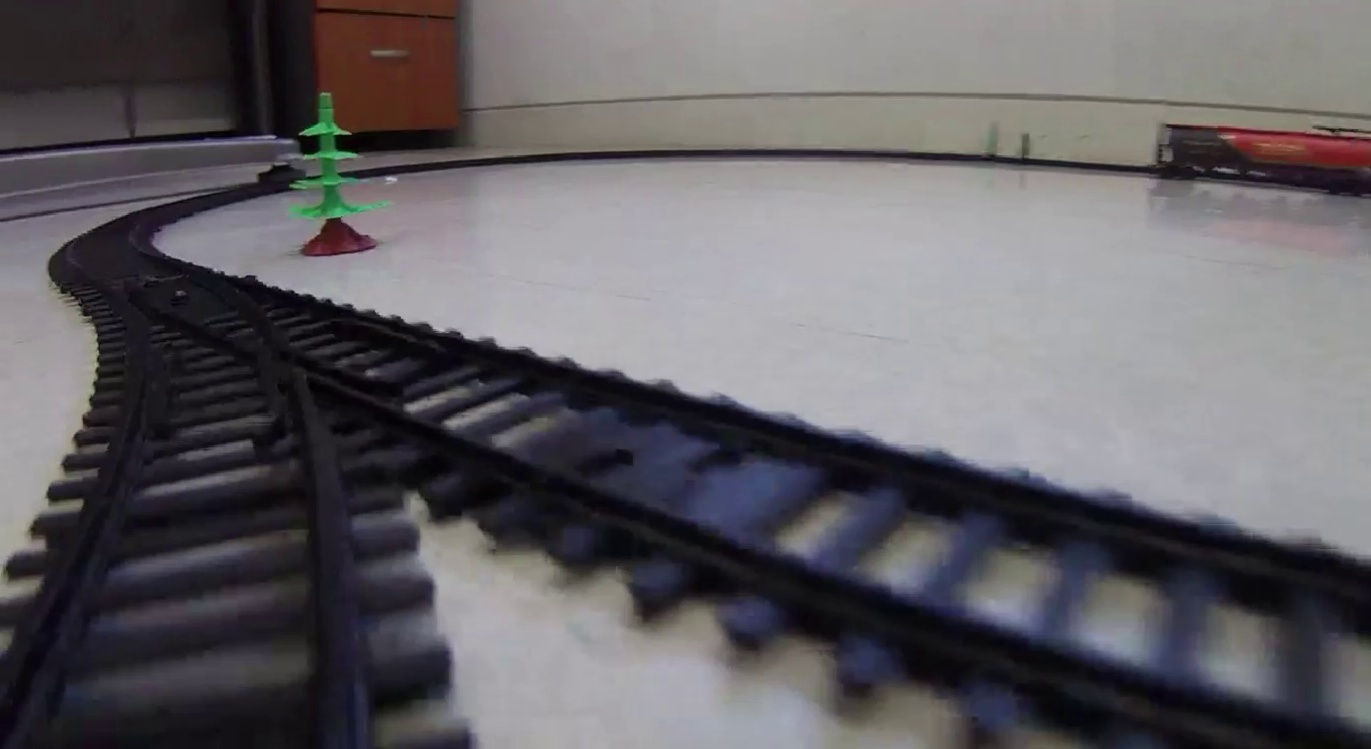tree: (289, 91, 384, 255)
